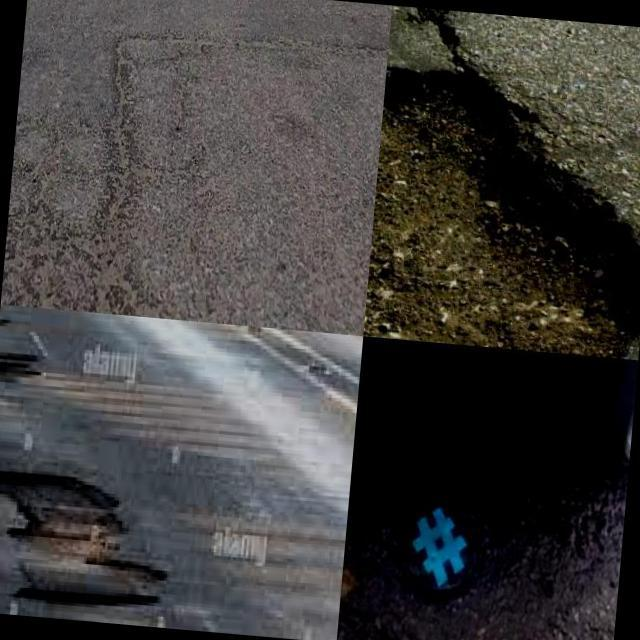Pothole: (363, 67, 640, 358), (339, 393, 612, 640), (0, 467, 169, 603)
